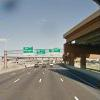Bridge: (56, 8, 98, 67)
